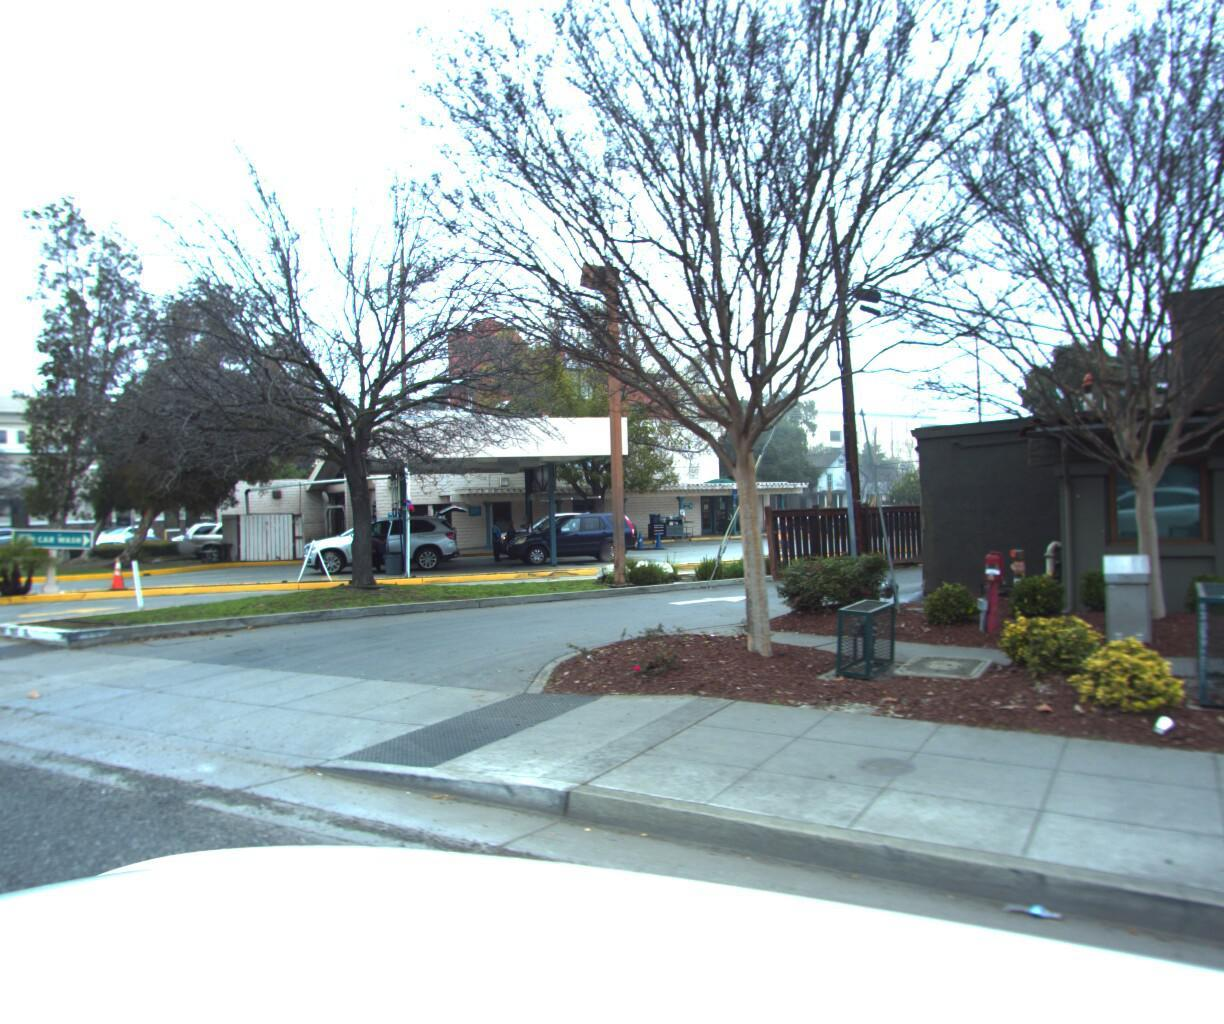car: (174, 508, 295, 558), (62, 529, 165, 564), (0, 521, 35, 551)
